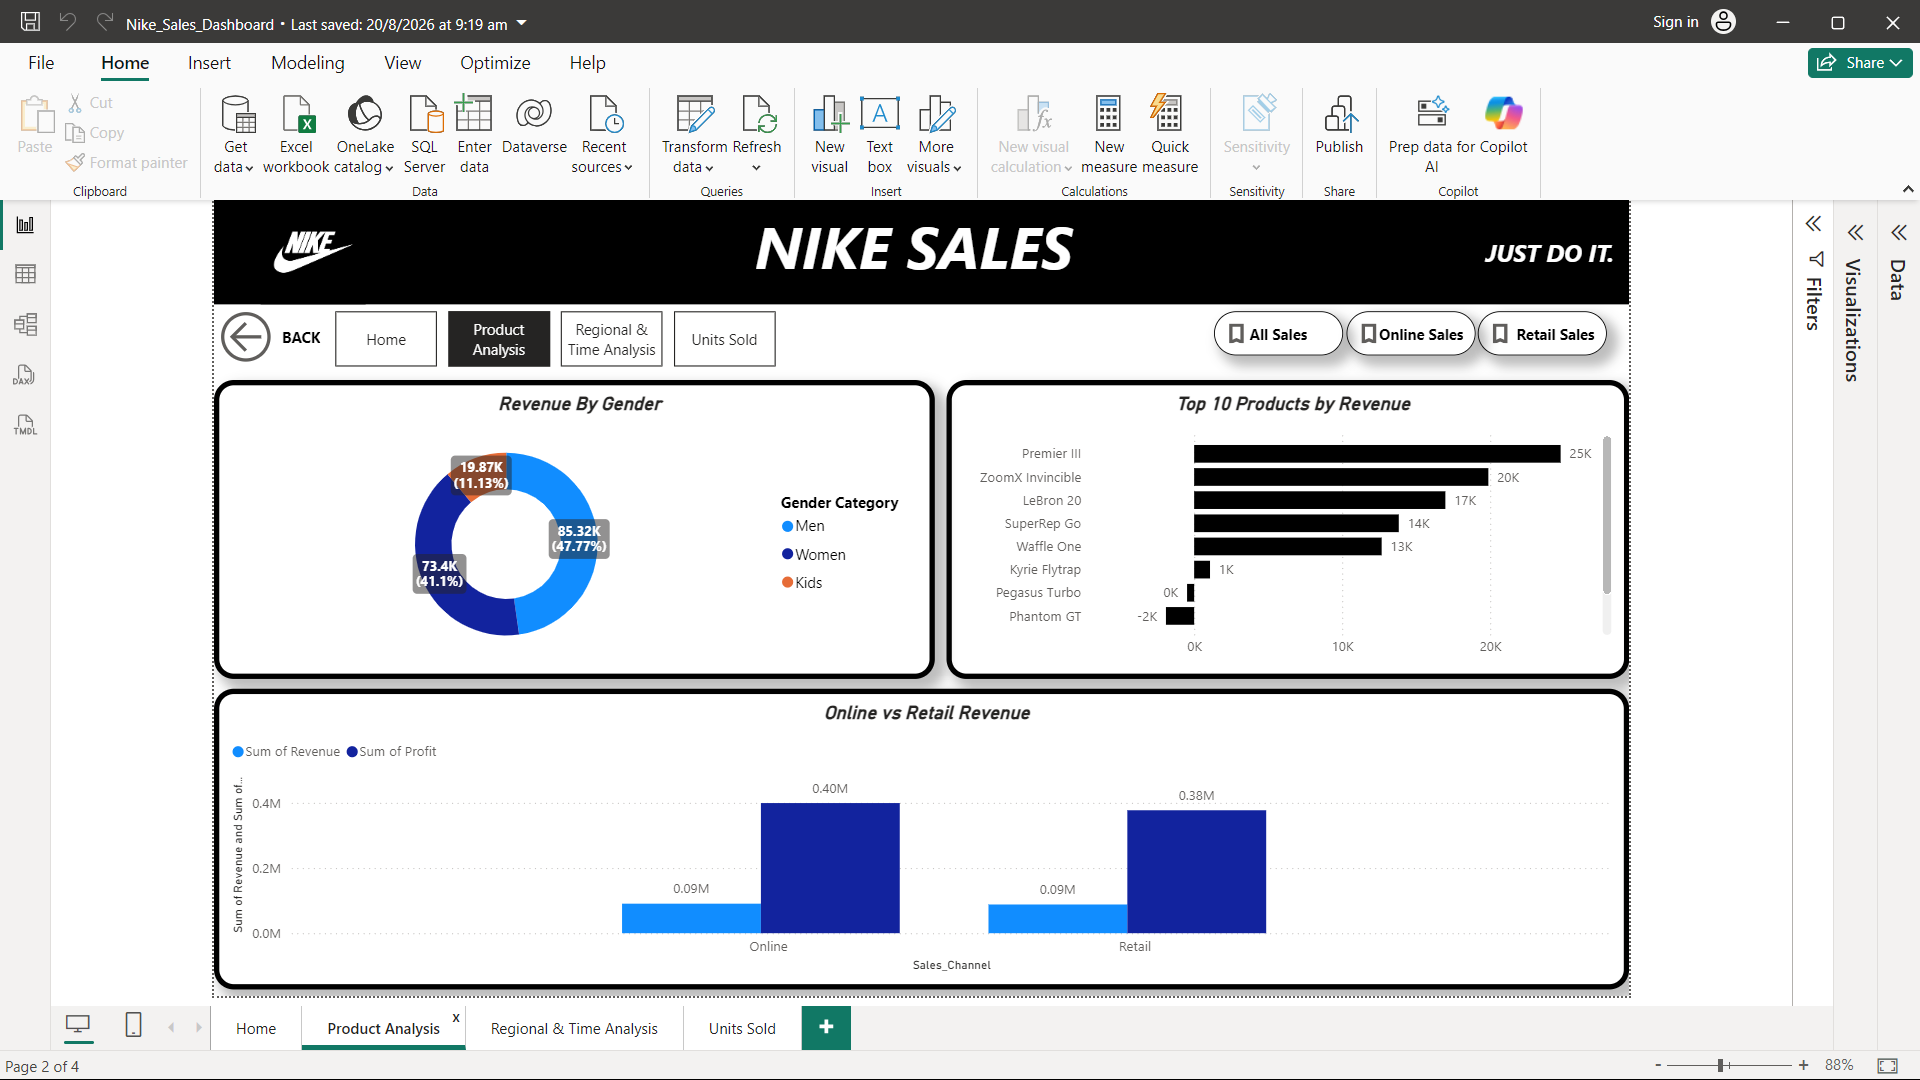

This screenshot's page, from the dashboard's own definition file:
{"tool":"powerbi","page":{"name":"Product Analysis","canvas":[1280,720],"ordinal":1},"visuals":[{"type":"textbox","box":[0,0,1280.2,94.2],"z":0},{"type":"image","box":[0,0,199,94.7],"z":1000},{"type":"textbox","box":[1082.7,28.8,188,38.4],"z":2000},{"type":"clusteredBarChart","title":"Top 10 Products by Revenue","fields":{"Category":["Dim_Product.Product_Name"],"Y":["Sum(Fact_Sales.Revenue)"]},"box":[662.8,163.3,617.5,270.3],"z":3000},{"type":"donutChart","title":"Revenue By Gender","fields":{"Category":["Dim_Gender.Gender_Category"],"Y":["Fact_Sales.Total Revenue"]},"box":[0,163.3,651.8,270.3],"z":4000},{"type":"card","fields":{"Values":["Fact_Sales.Total Profit"]},"box":[618.9,580.4,190.7,111.1],"z":5000},{"type":"pageNavigator","box":[109.9,100.2,400.7,50.1],"z":6000},{"type":"clusteredColumnChart","title":"Online vs Retail Revenue","fields":{"Category":["Dim_SalesChannel.Sales_Channel"],"Y":["Sum(Fact_Sales.Revenue)","Sum(Fact_Sales.Profit)"]},"box":[0,441.9,1280,271.7],"z":7000},{"type":"actionButton","box":[1024,100.2,116.9,40.3],"z":8000},{"type":"actionButton","box":[1143.7,100.2,116.9,40.3],"z":9000},{"type":"actionButton","box":[904.3,100.2,116.9,40.3],"z":10000},{"type":"actionButton","box":[0,94.7,100.2,57.6],"z":11000}]}

Visuals, with their boxes on the page's 1280x720 design canvas (x1, y1, x2, y2). These are canvas units, not pixel positions in the 1920x1080 screenshot, which may show the page scaled, cropped or inside an application window:
textbox: 0 0 1280 94
image: 0 0 199 95
textbox: 1083 29 1271 67
"Top 10 Products by Revenue" clusteredBarChart: 663 163 1280 434
"Revenue By Gender" donutChart: 0 163 652 434
card - Fact_Sales.Total Profit: 619 580 810 692
pageNavigator: 110 100 511 150
"Online vs Retail Revenue" clusteredColumnChart: 0 442 1280 714
actionButton: 1024 100 1141 140
actionButton: 1144 100 1261 140
actionButton: 904 100 1021 140
actionButton: 0 95 100 152
